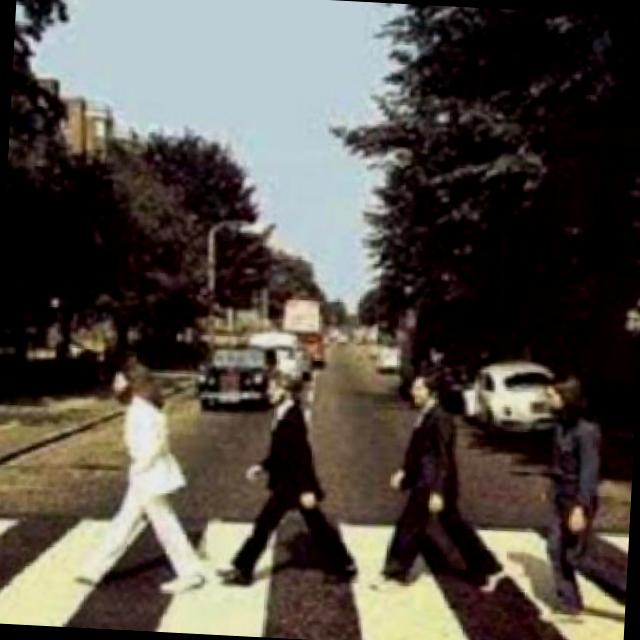Person: (364, 358, 511, 608), (205, 364, 361, 593), (68, 362, 216, 592), (520, 364, 638, 626)
